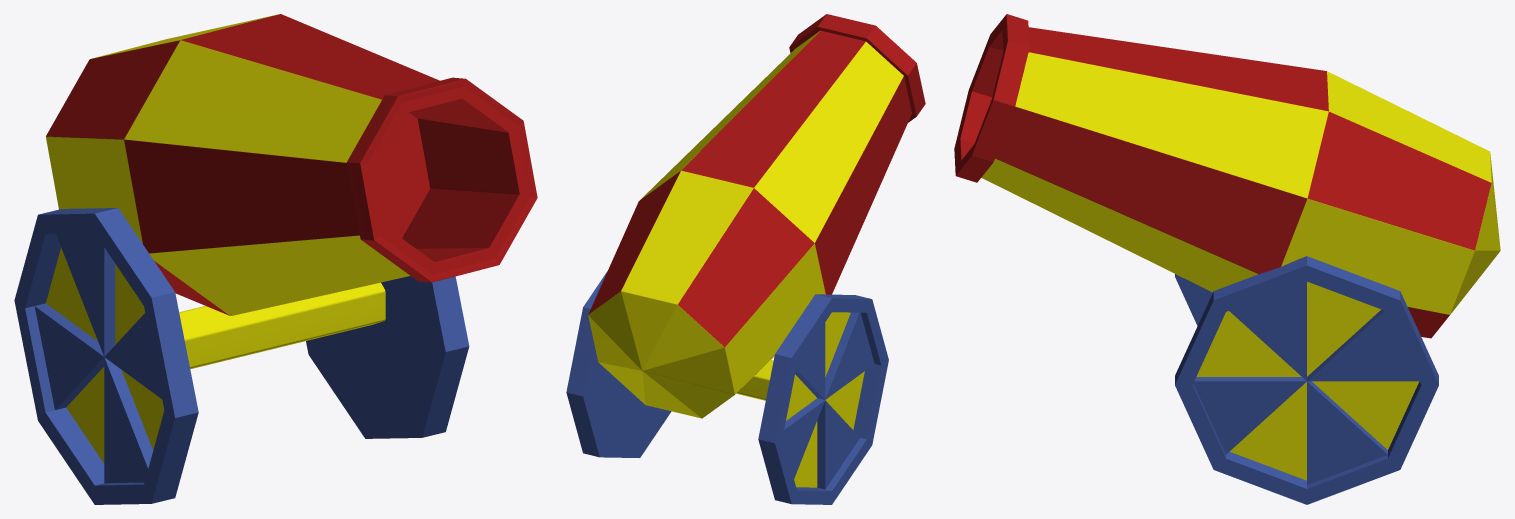
File: Canon.fbx
3 renders of one model, left to right at view 1: azimuth 30°, elevation 25°; view 2: azimuth 150°, elevation 25°; view 3: azimuth 270°, elevation 25°, orthographic. The views are drawn at different scales.
Parts seen in each view (by area): view 1: pCylinder7, pCylinder9, pCylinder8, pCylinder10; view 2: pCylinder7, pCylinder9, pCylinder8, pCylinder10; view 3: pCylinder7, pCylinder8, pCylinder9.
Part boxes in pixels (<box>): pCylinder7: <box>46,14,537,315</box>; pCylinder9: <box>14,208,198,504</box>; pCylinder8: <box>306,276,469,438</box>; pCylinder10: <box>179,282,385,369</box>; pCylinder7: <box>588,14,925,418</box>; pCylinder9: <box>758,294,888,504</box>; pCylinder8: <box>566,271,671,457</box>; pCylinder10: <box>736,360,773,400</box>; pCylinder7: <box>954,14,1500,338</box>; pCylinder8: <box>1175,256,1438,504</box>; pCylinder9: <box>1175,274,1212,325</box>.
Bounding box in the file's own units: 4.55 × 7.59 × 8.91.
